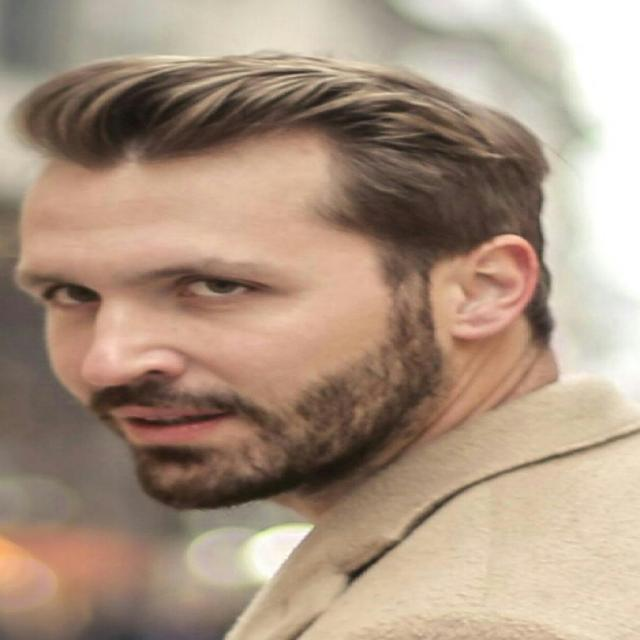front: (0, 210, 341, 466)
